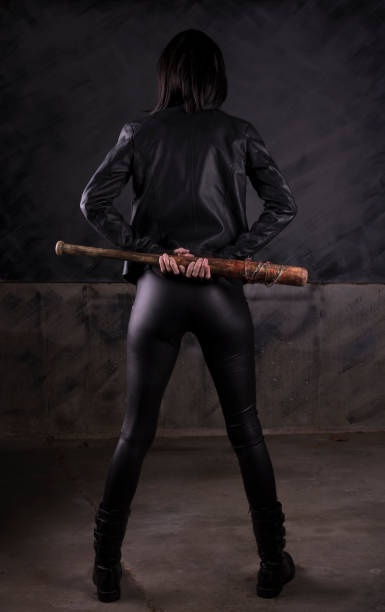bita: (47, 234, 314, 288)
